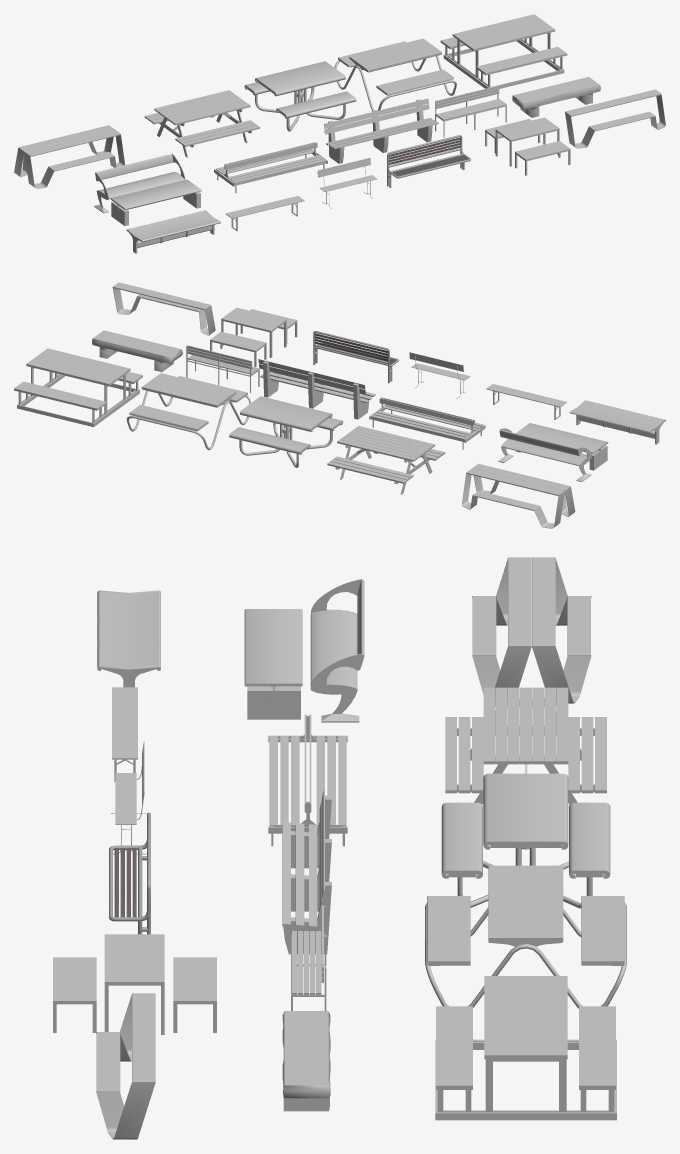
Rendered from Low Poly Seats Pack.FBX.
3 views of the same model, one above another, from view 1: azimuth 30°, elevation 25°; view 2: azimuth 150°, elevation 25°; view 3: azimuth 270°, elevation 25° (orthographic). The views are drawn at different scales.
Parts seen in each view (by area): view 1: Low Poly Seats_07, Low Poly Seats_15, Low Poly Seats_12, Low Poly Seats_08, Low Poly Seats_01, Low Poly Seats_10, Low Poly Seats_02, Low Poly Seats_06, Low Poly Seats_13, Low Poly Seats_05, Low Poly Seats_018, Low Poly Seats_16 (+6 smaller); view 2: Low Poly Seats_07, Low Poly Seats_15, Low Poly Seats_12, Low Poly Seats_08, Low Poly Seats_01, Low Poly Seats_10, Low Poly Seats_06, Low Poly Seats_05, Low Poly Seats_17, Low Poly Seats_13, Low Poly Seats_03, Low Poly Seats_02 (+6 smaller); view 3: Low Poly Seats_07, Low Poly Seats_15, Low Poly Seats_12, Low Poly Seats_08, Low Poly Seats_06, Low Poly Seats_018, Low Poly Seats_14, Low Poly Seats_17, Low Poly Seats_10, Low Poly Seats_16, Low Poly Seats_13, Low Poly Seats_01 (+6 smaller).
Part boxes in pixels (x1=…): Low Poly Seats_07: x1=440, y1=14, x2=567, y2=88; Low Poly Seats_15: x1=334, y1=38, x2=456, y2=110; Low Poly Seats_12: x1=244, y1=61, x2=356, y2=131; Low Poly Seats_08: x1=144, y1=90, x2=260, y2=157; Low Poly Seats_01: x1=324, y1=98, x2=438, y2=163; Low Poly Seats_10: x1=214, y1=142, x2=327, y2=193; Low Poly Seats_02: x1=387, y1=135, x2=470, y2=187; Low Poly Seats_06: x1=485, y1=117, x2=570, y2=175; Low Poly Seats_13: x1=94, y1=153, x2=185, y2=213; Low Poly Seats_05: x1=126, y1=210, x2=220, y2=253; Low Poly Seats_018: x1=565, y1=89, x2=665, y2=148; Low Poly Seats_16: x1=24, y1=129, x2=125, y2=188; Low Poly Seats_07: x1=14, y1=348, x2=142, y2=427; Low Poly Seats_15: x1=126, y1=373, x2=251, y2=450; Low Poly Seats_12: x1=229, y1=396, x2=343, y2=468; Low Poly Seats_08: x1=327, y1=426, x2=445, y2=494; Low Poly Seats_01: x1=258, y1=359, x2=375, y2=419; Low Poly Seats_10: x1=369, y1=397, x2=485, y2=449; Low Poly Seats_06: x1=210, y1=307, x2=297, y2=366; Low Poly Seats_05: x1=569, y1=400, x2=665, y2=444; Low Poly Seats_17: x1=462, y1=468, x2=564, y2=528; Low Poly Seats_13: x1=498, y1=428, x2=591, y2=481; Low Poly Seats_03: x1=92, y1=330, x2=182, y2=372; Low Poly Seats_02: x1=313, y1=331, x2=398, y2=383; Low Poly Seats_07: x1=435, y1=976, x2=616, y2=1120; Low Poly Seats_15: x1=425, y1=865, x2=626, y2=1008; Low Poly Seats_12: x1=441, y1=773, x2=610, y2=908; Low Poly Seats_08: x1=445, y1=687, x2=606, y2=804; Low Poly Seats_06: x1=53, y1=934, x2=216, y2=1034; Low Poly Seats_018: x1=96, y1=993, x2=155, y2=1139; Low Poly Seats_14: x1=244, y1=609, x2=302, y2=719; Low Poly Seats_17: x1=532, y1=557, x2=591, y2=703; Low Poly Seats_10: x1=268, y1=714, x2=347, y2=846; Low Poly Seats_16: x1=472, y1=557, x2=531, y2=698; Low Poly Seats_13: x1=310, y1=579, x2=364, y2=722; Low Poly Seats_01: x1=282, y1=789, x2=331, y2=954.
Size of the model in its own units: 14.68 by 1.01 by 6.79.
